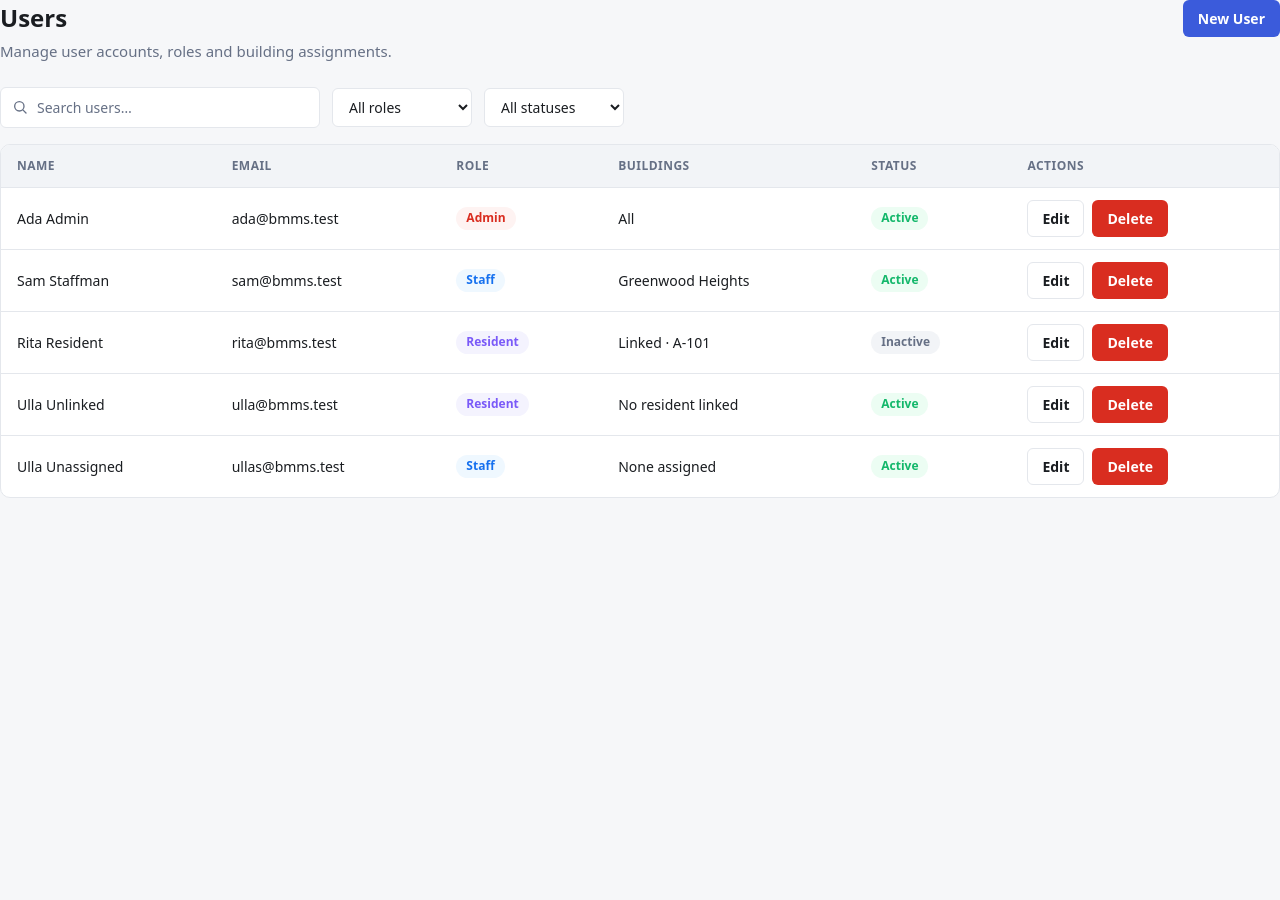
Test: UsersPage admin user management › rejects a too-short password on create
Expected: the text "Ada Admin" is shown, [1,187,216,249]
Click the button "New User" at (1231, 18), box [1183,0,1279,37]
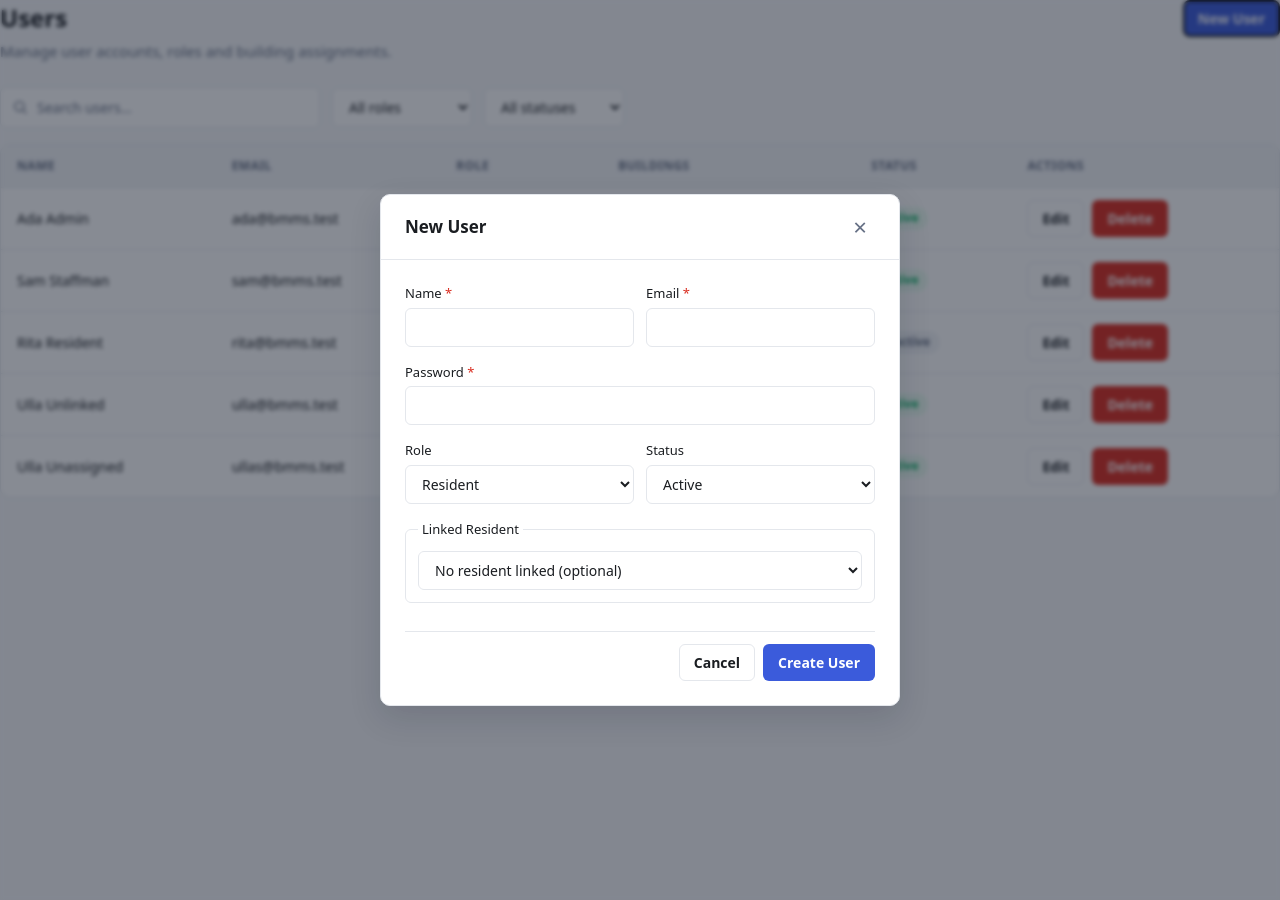
Type "Shorty" into the field labelled "Name *" at (520, 327), box [405,308,634,346]
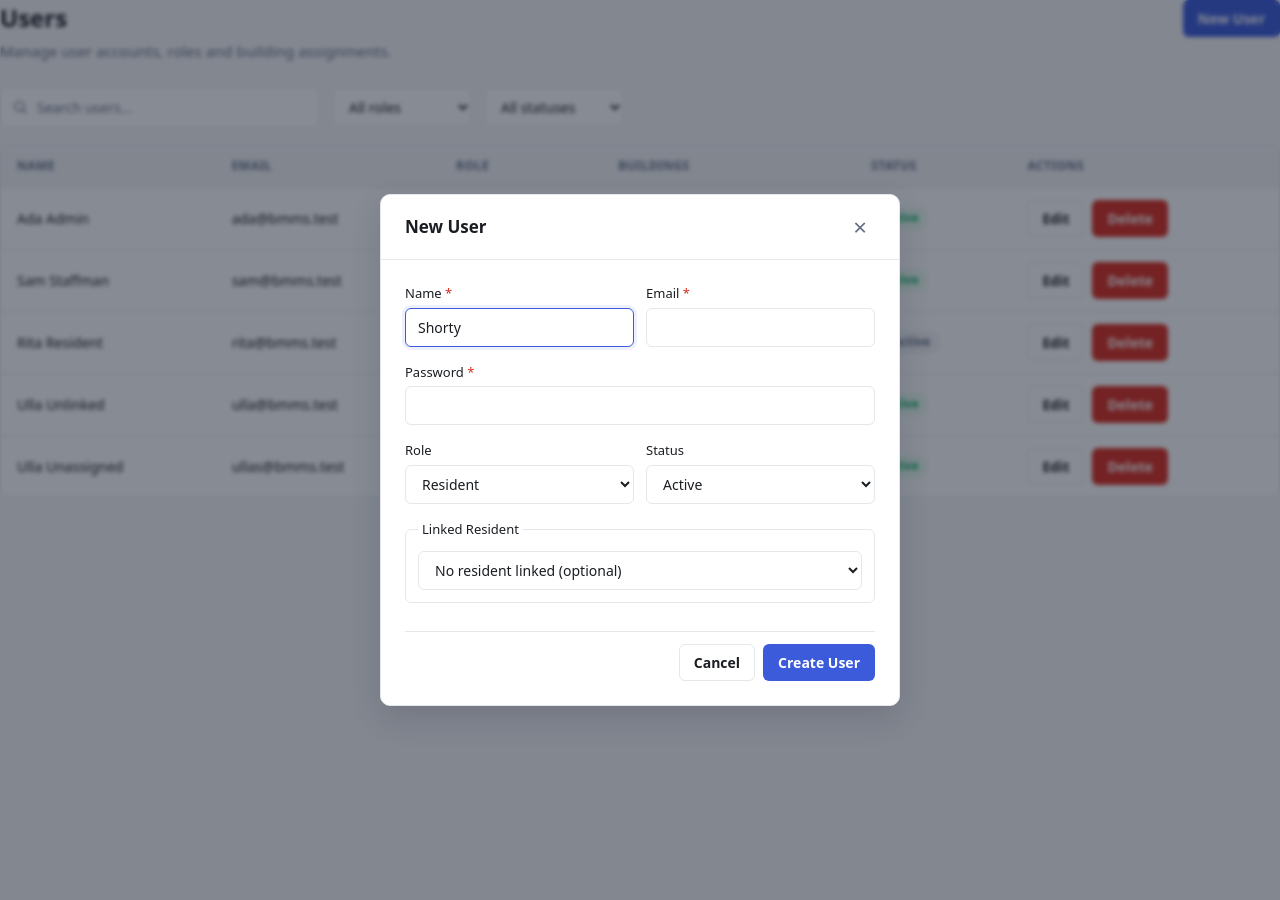
Type "short@bmms.test" into the field labelled "Email *" at (760, 327), box [646,308,875,346]
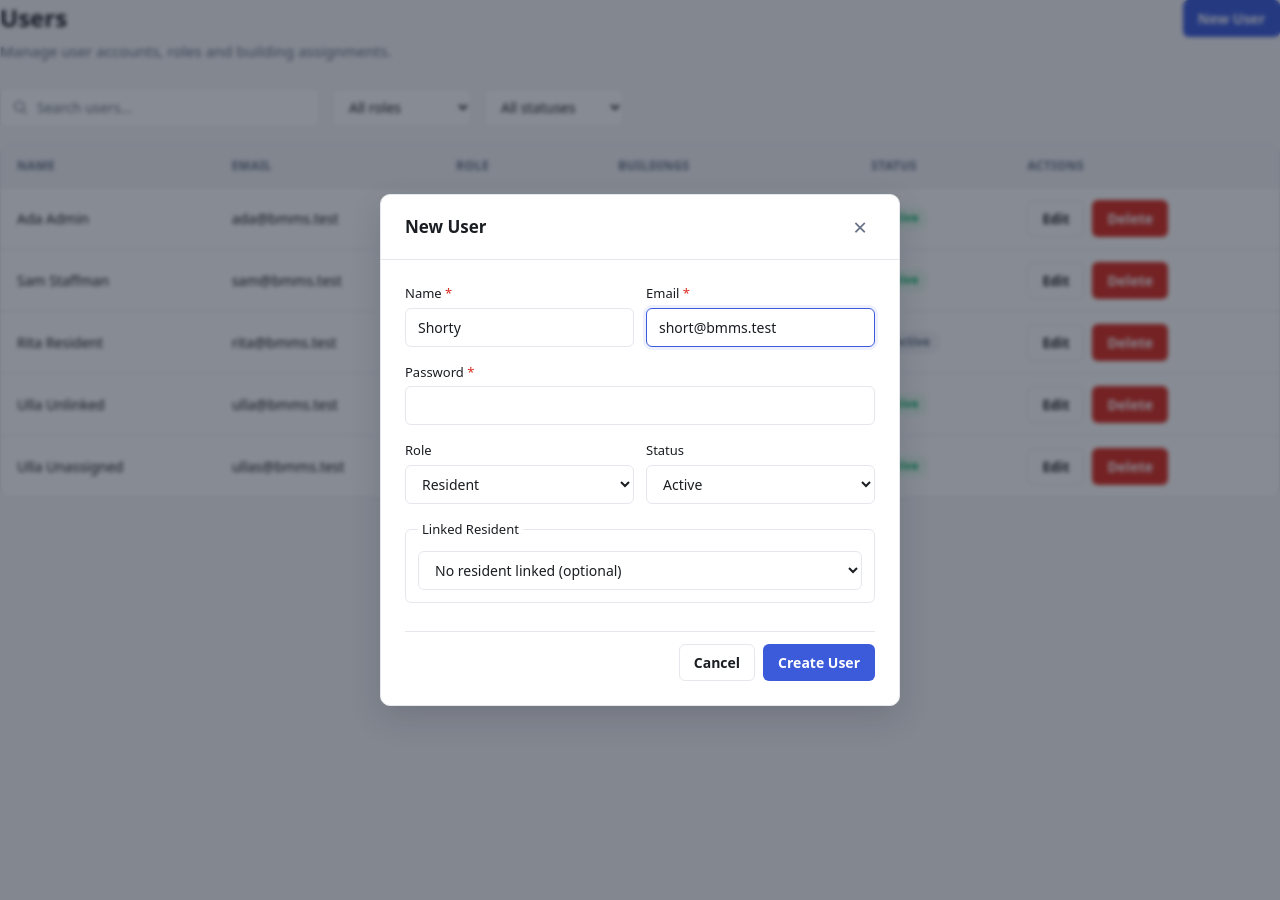
Type "short" into the password field labelled "Password *" at (640, 406), box [405,386,875,425]
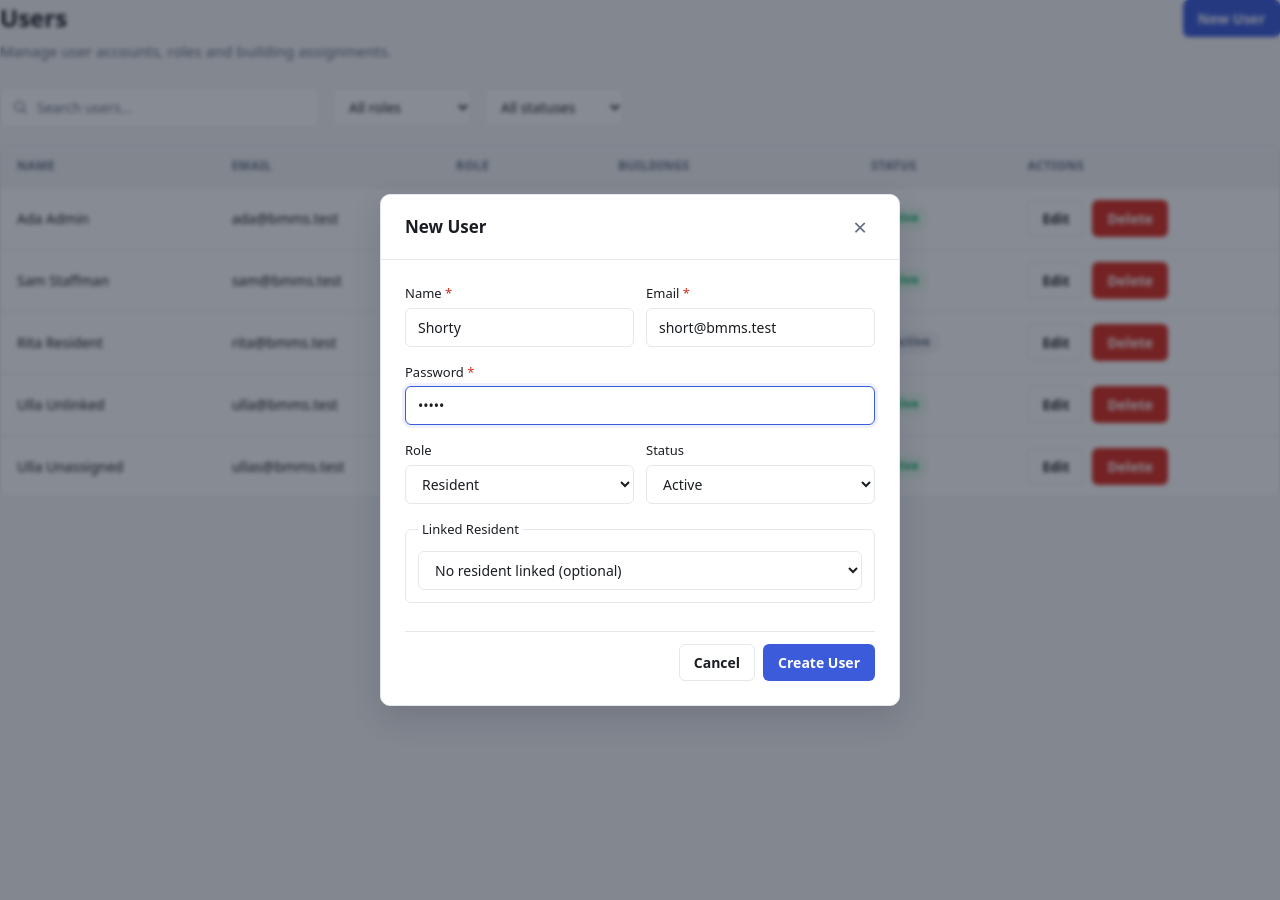
Click the button "Create User" at (819, 662), box [763,644,875,681]
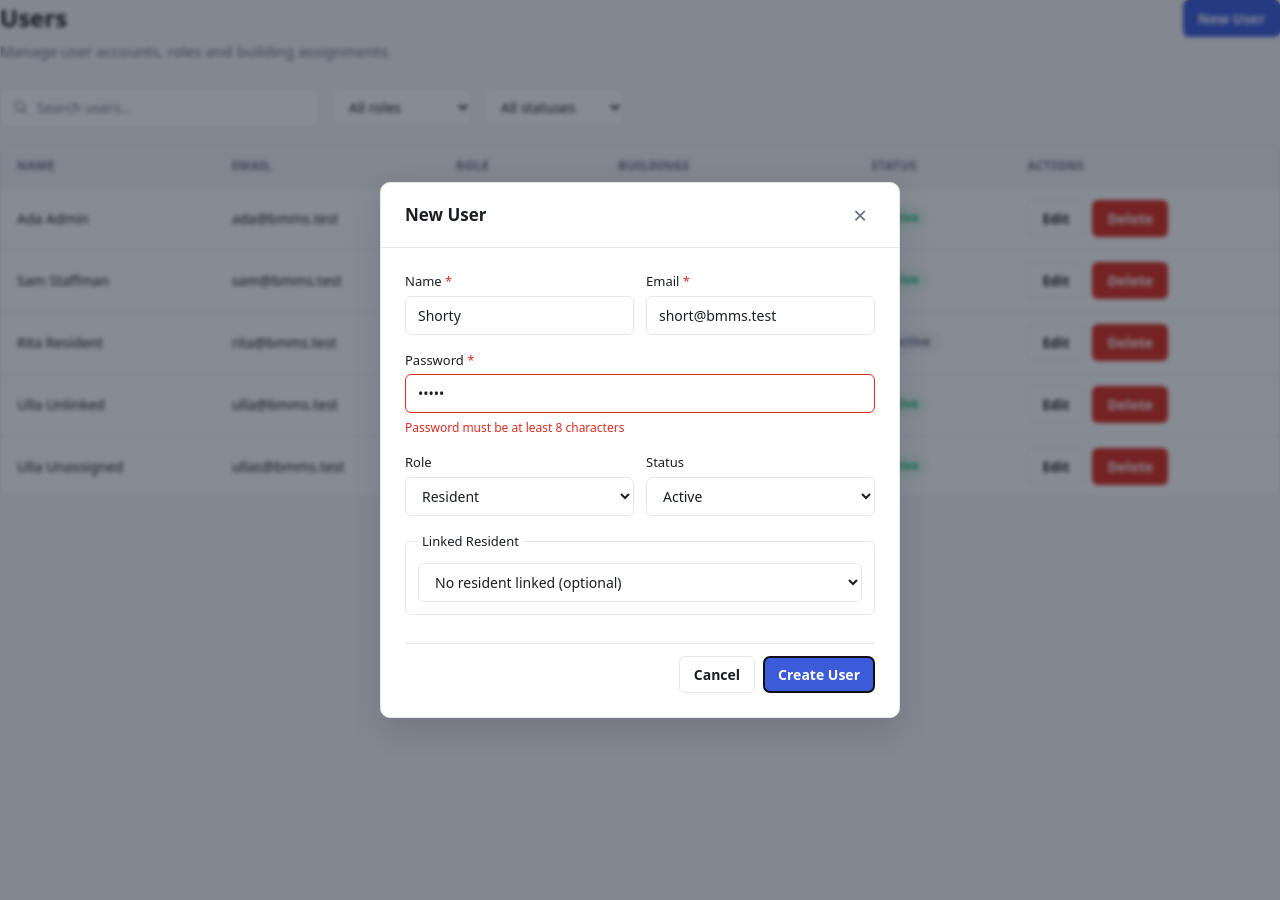
Now the text "Password must be at least 8 characters" is shown, box [405,419,624,436]
